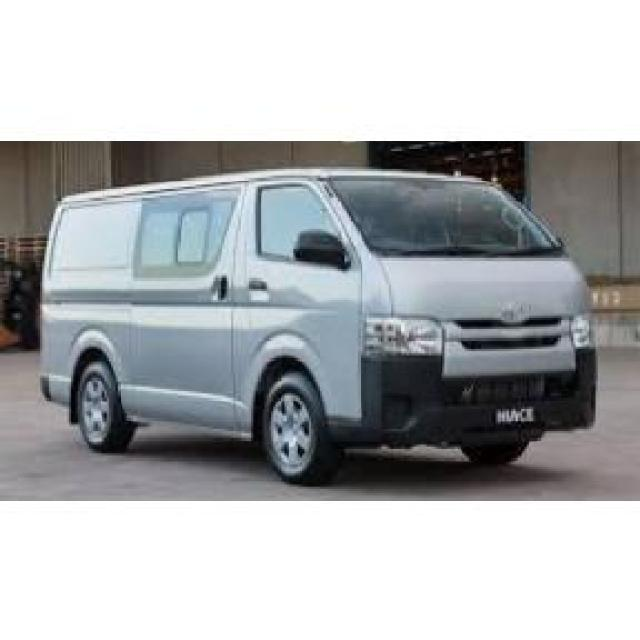Van: (39, 171, 600, 487)
